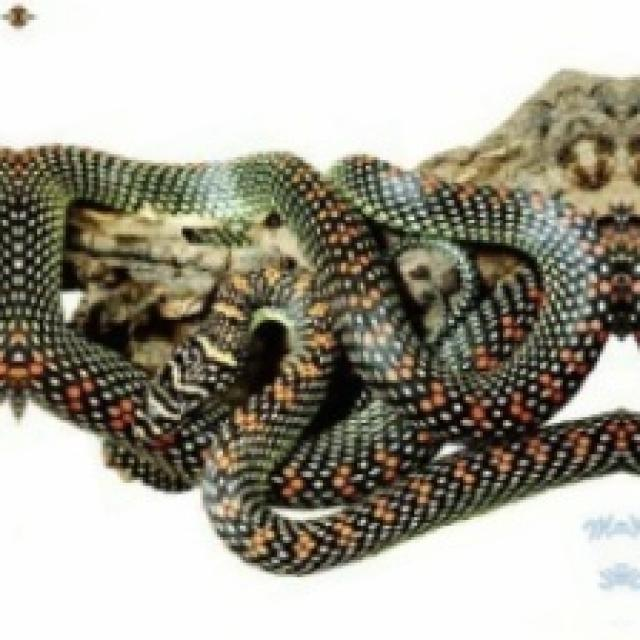paradise tree snake: (0, 71, 637, 571)
